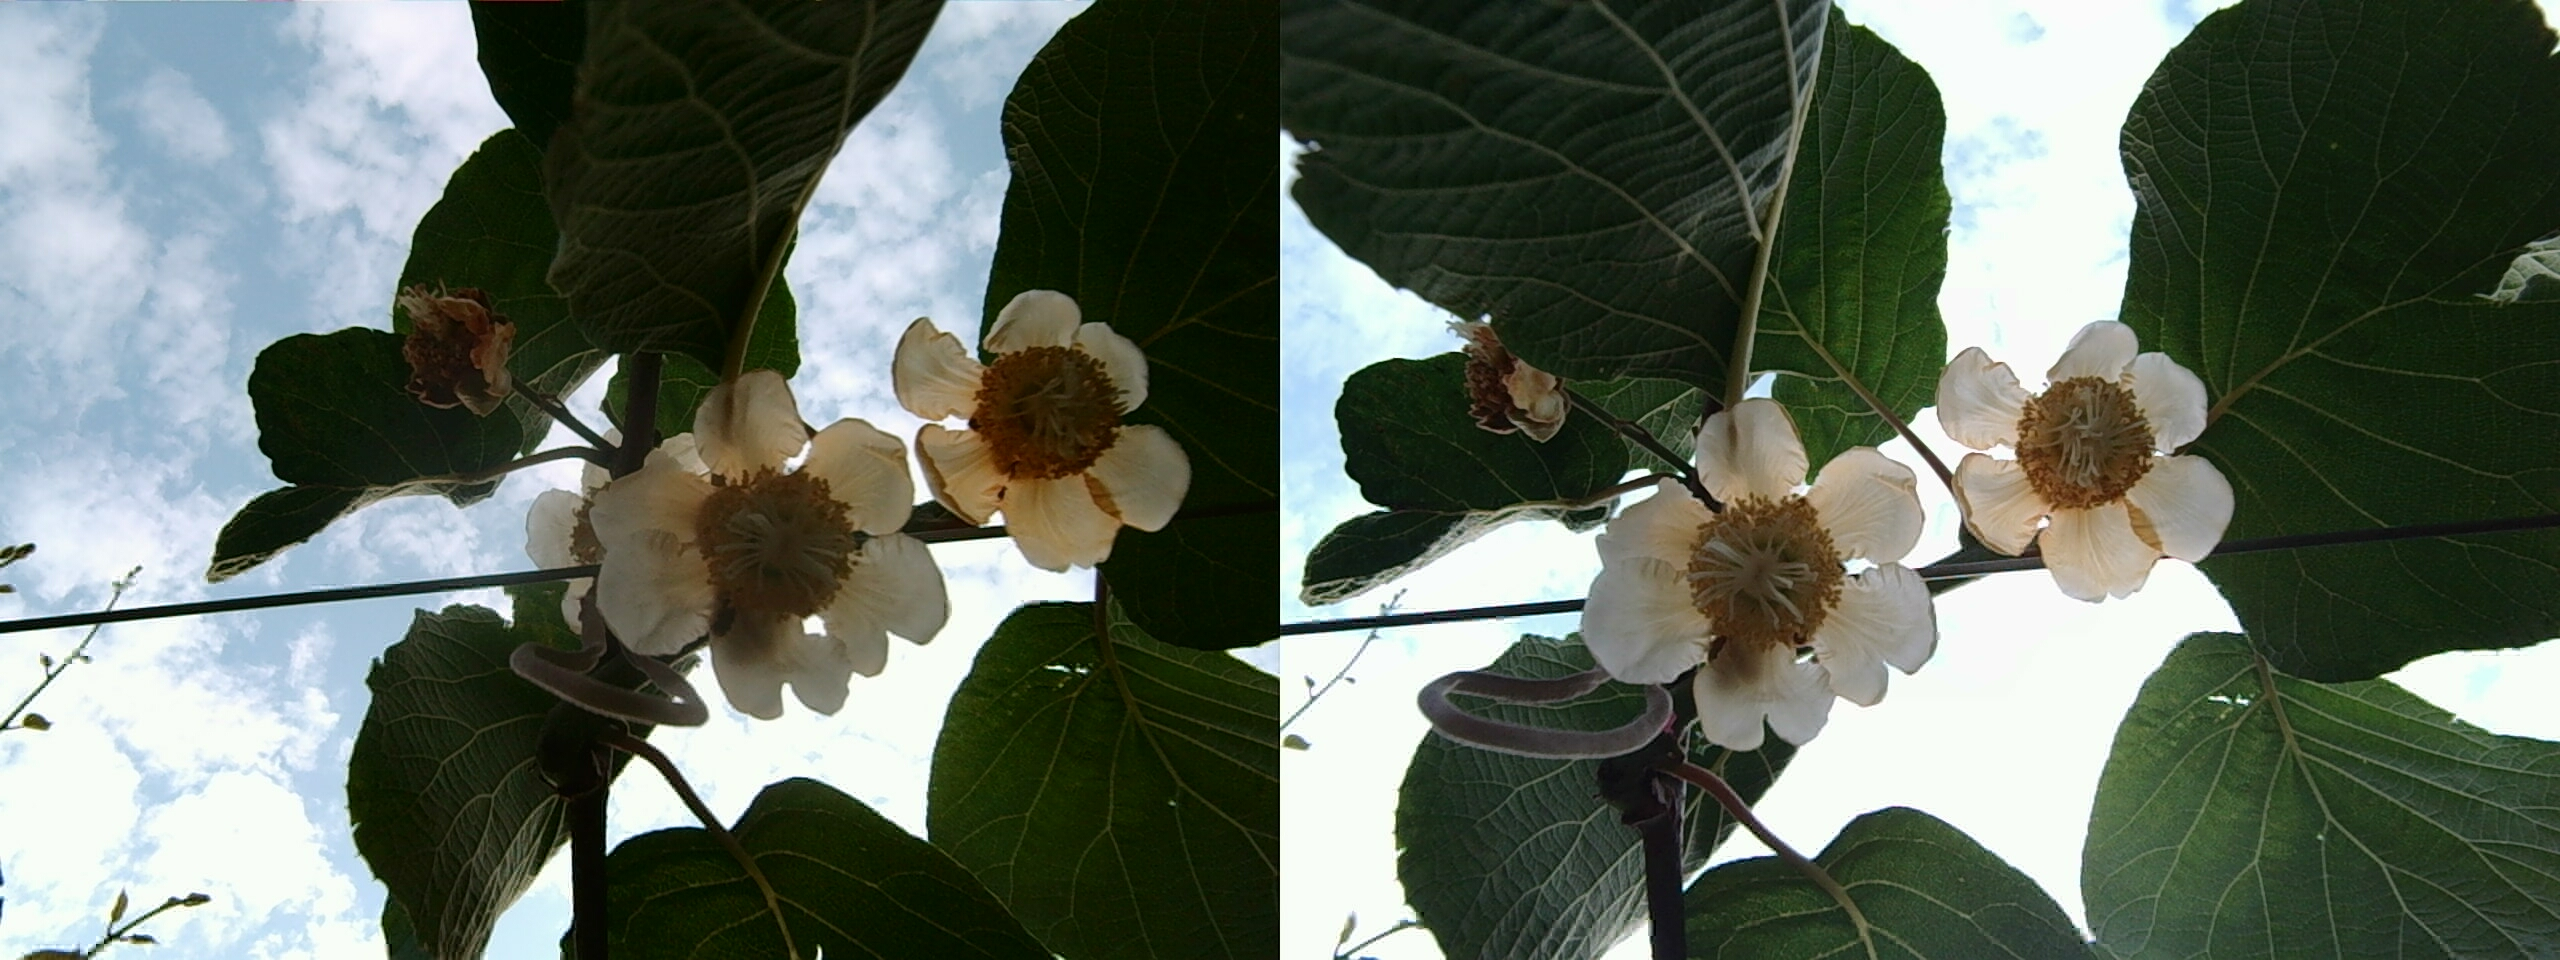flower: (1602, 402, 1923, 741), (606, 407, 940, 704), (904, 274, 1167, 549), (1946, 307, 2217, 571), (682, 366, 802, 482), (400, 284, 514, 403)
